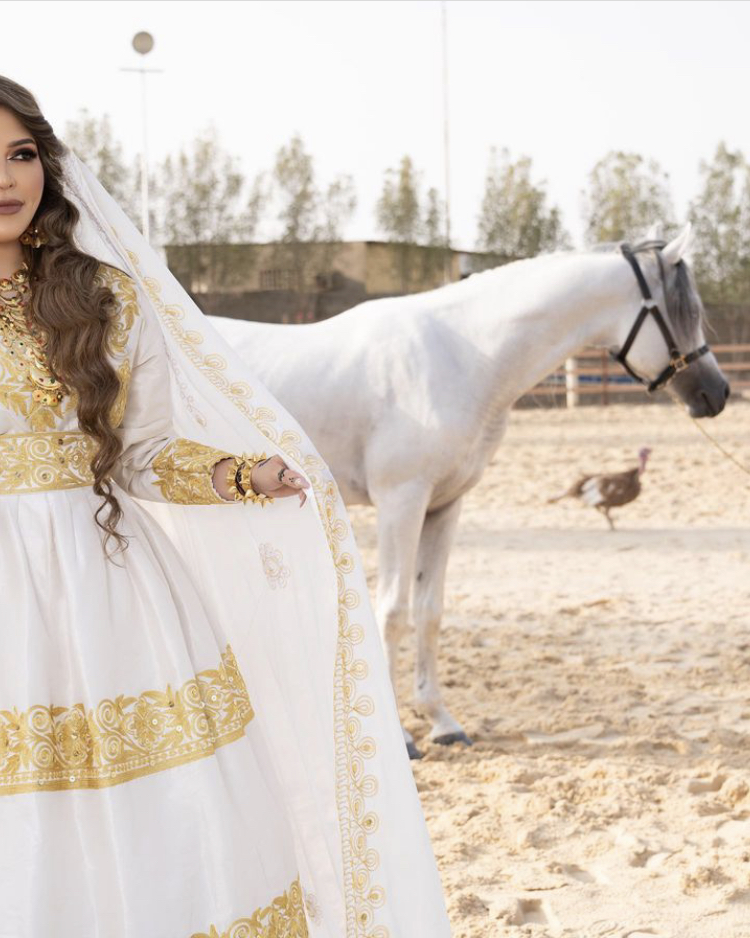Saudi_Founding_Day: (3, 70, 460, 938)
